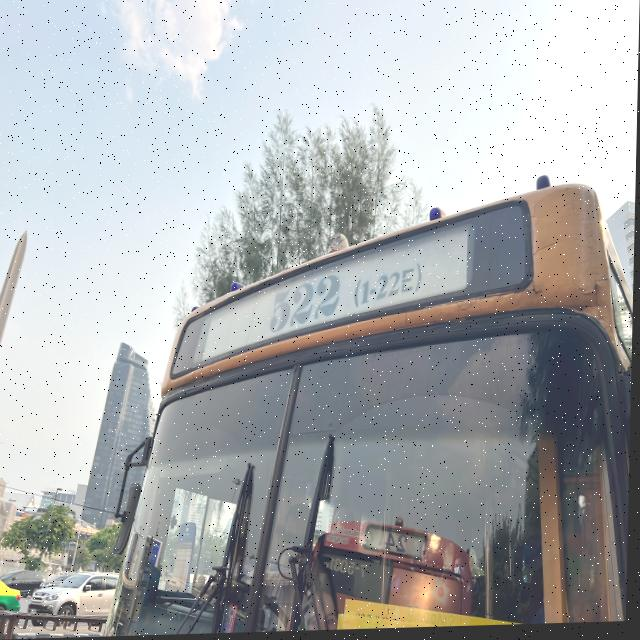BMTA-bus: (107, 156, 637, 637)
Bus-Line-Number: (258, 239, 433, 344)
